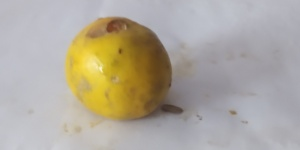BAD: (65, 16, 175, 122)
